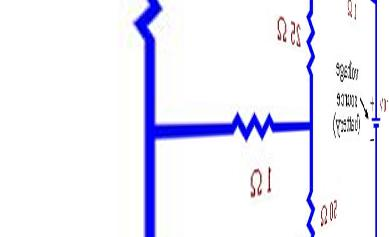resistor: (201, 84, 286, 147)
